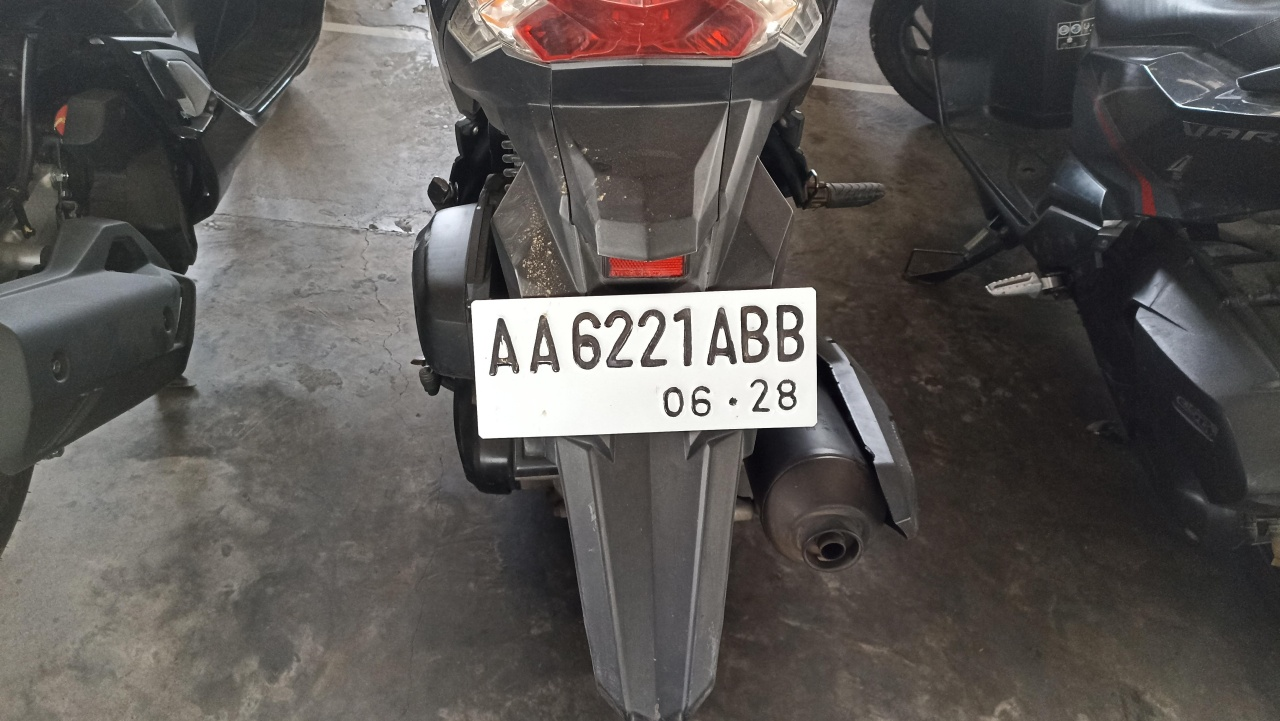plate: (472, 288, 817, 439)
